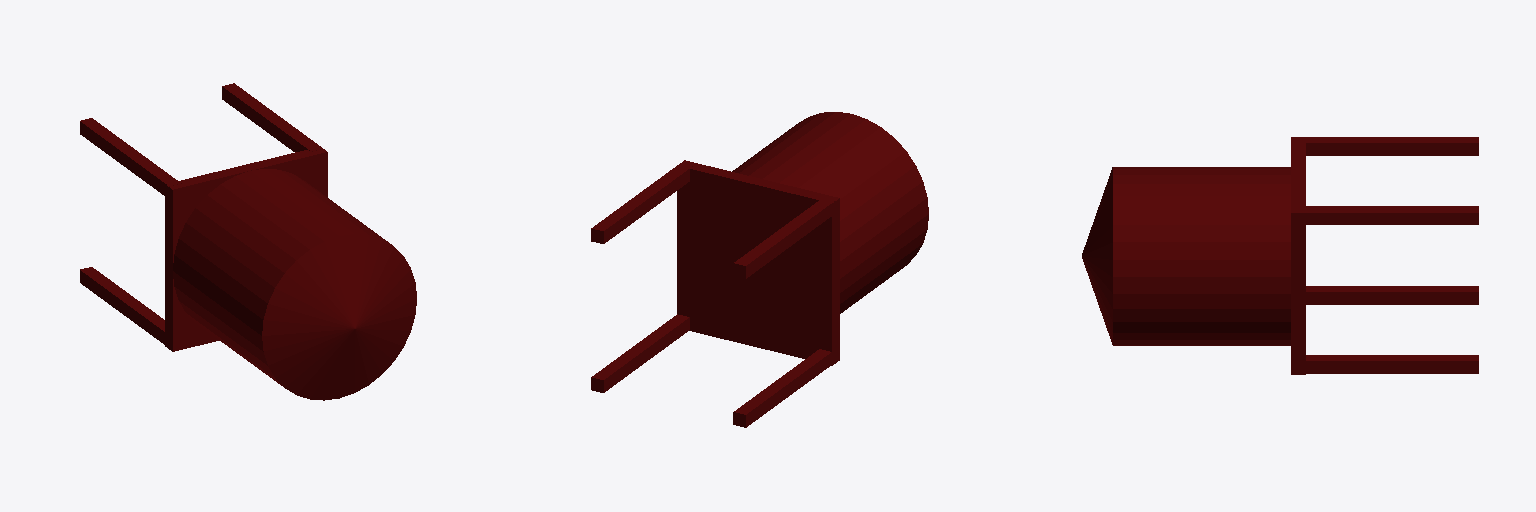
File: depositoRojo.obj
3 renders of one model, left to right at view 1: azimuth 30°, elevation 25°; view 2: azimuth 150°, elevation 25°; view 3: azimuth 270°, elevation 25°, orthographic.
Parts seen in each view (by area): view 1: Cylinder, Cube, Cube.004, Cube.003, Cube.001; view 2: Cube, Cylinder, Cube.004, Cube.003, Cube.002, Cube.001; view 3: Cylinder, Cube, Cube.003, Cube.004, Cube.002, Cube.001.
Boxes of the visible parts, box(x1,y1,x2,y2) form: Cylinder: box(173, 169, 416, 400); Cube: box(165, 149, 327, 351); Cube.004: box(80, 118, 181, 195); Cube.003: box(222, 83, 322, 151); Cube.001: box(80, 267, 164, 344); Cube: box(677, 160, 839, 365); Cylinder: box(732, 112, 928, 313); Cube.004: box(733, 198, 834, 278); Cube.003: box(591, 163, 692, 243); Cube.002: box(591, 314, 689, 392); Cube.001: box(733, 349, 831, 427); Cylinder: box(1082, 167, 1290, 345); Cube: box(1291, 137, 1305, 374); Cube.003: box(1299, 206, 1478, 224); Cube.004: box(1299, 137, 1478, 155); Cube.002: box(1306, 355, 1478, 373); Cube.001: box(1306, 286, 1478, 304).
Bounding box in the file's own units: 2 × 2 × 4.43.